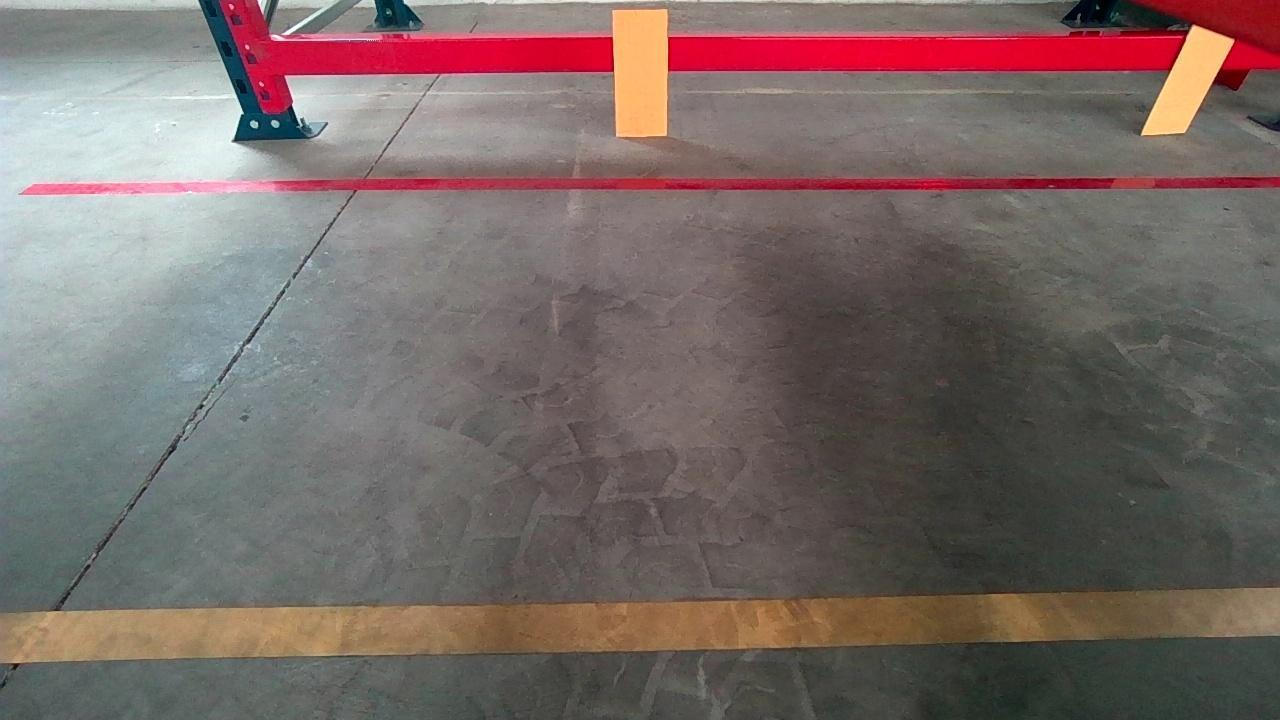h_rack: (264, 37, 1280, 72)
orange_strip: (1143, 28, 1237, 130), (613, 10, 670, 137)
red_line: (19, 172, 1280, 196)
yellow_line: (1, 587, 1272, 664)
